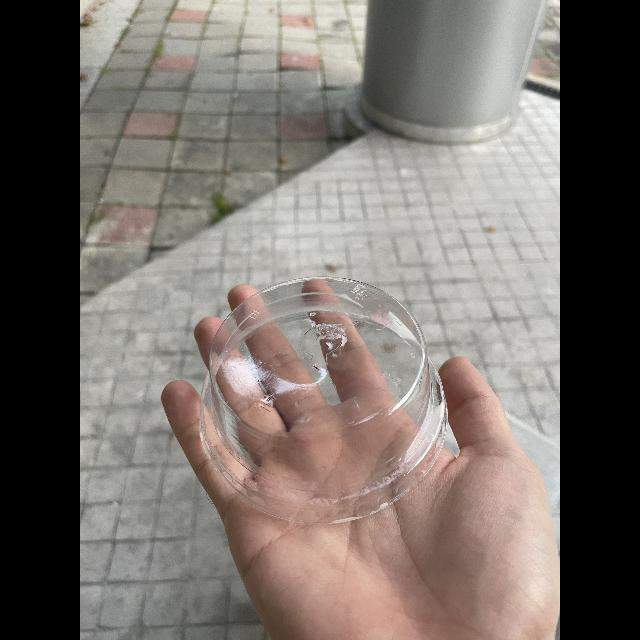plastic_cup_lid: (204, 274, 454, 526)
